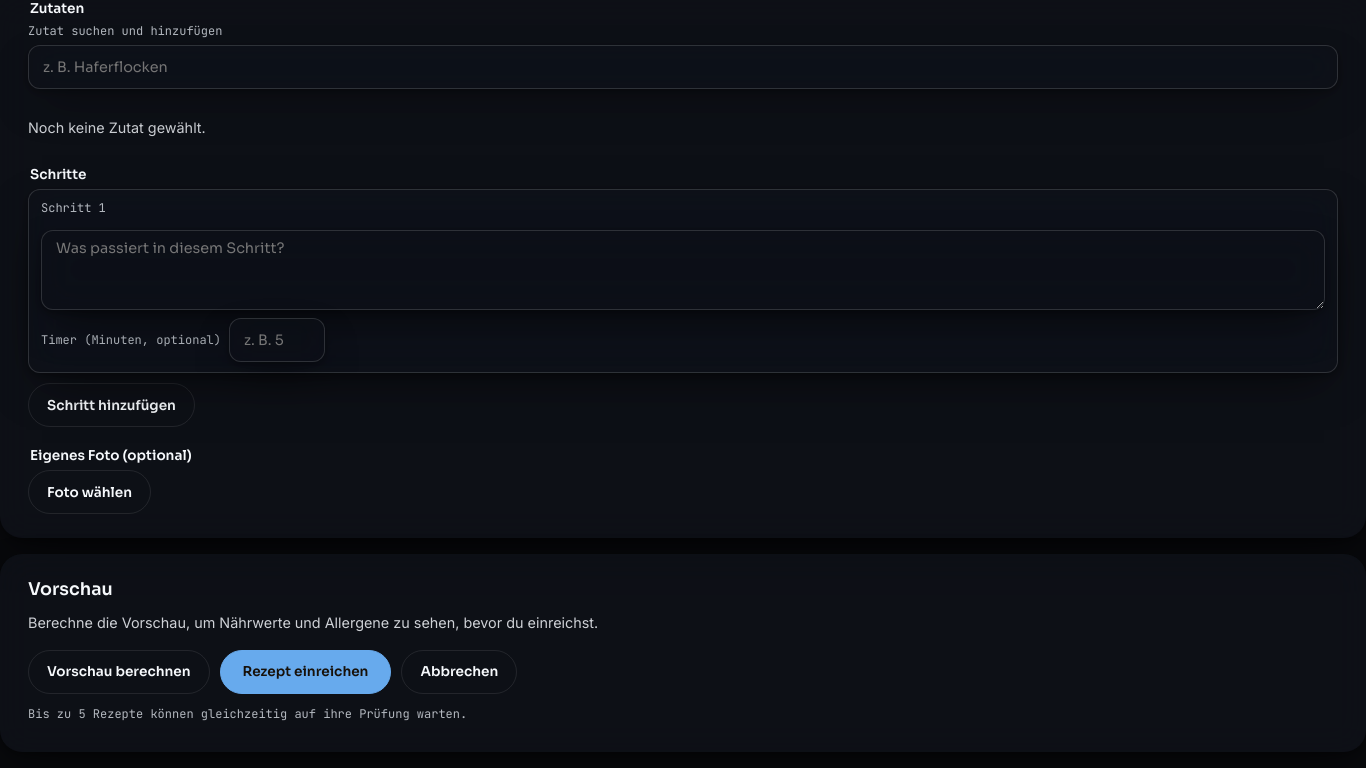
Scenario: RecipeSubmissionForm › zeigt den Zeit-Fehler (422) am Feld Zubereitungszeit und setzt aria-invalid
(page scrolled)
Click the button "Rezept einreichen".
click(305, 672)  # box [220,650,391,694]
(page scrolled)
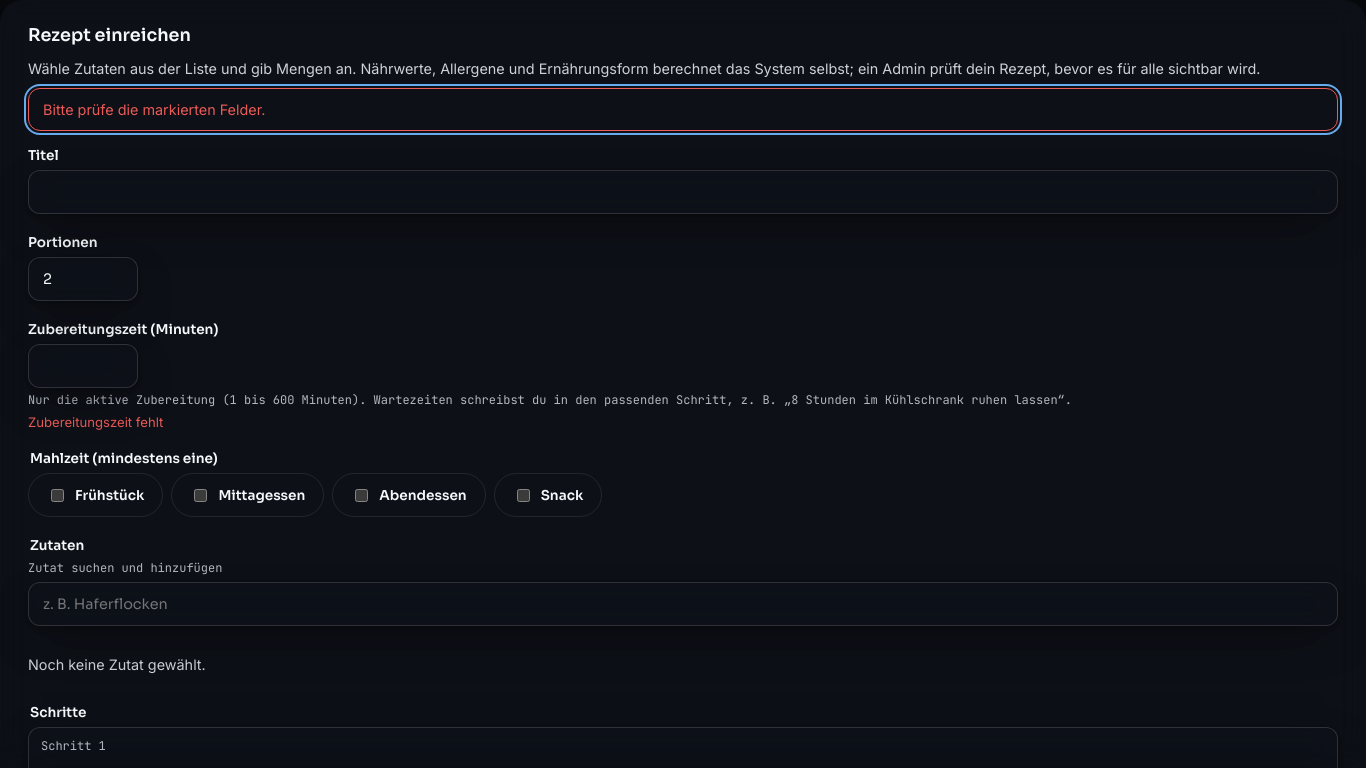
expect the message "Bitte prüfe die markierten Felder." is shown: met, box [28,88,1338,131]
